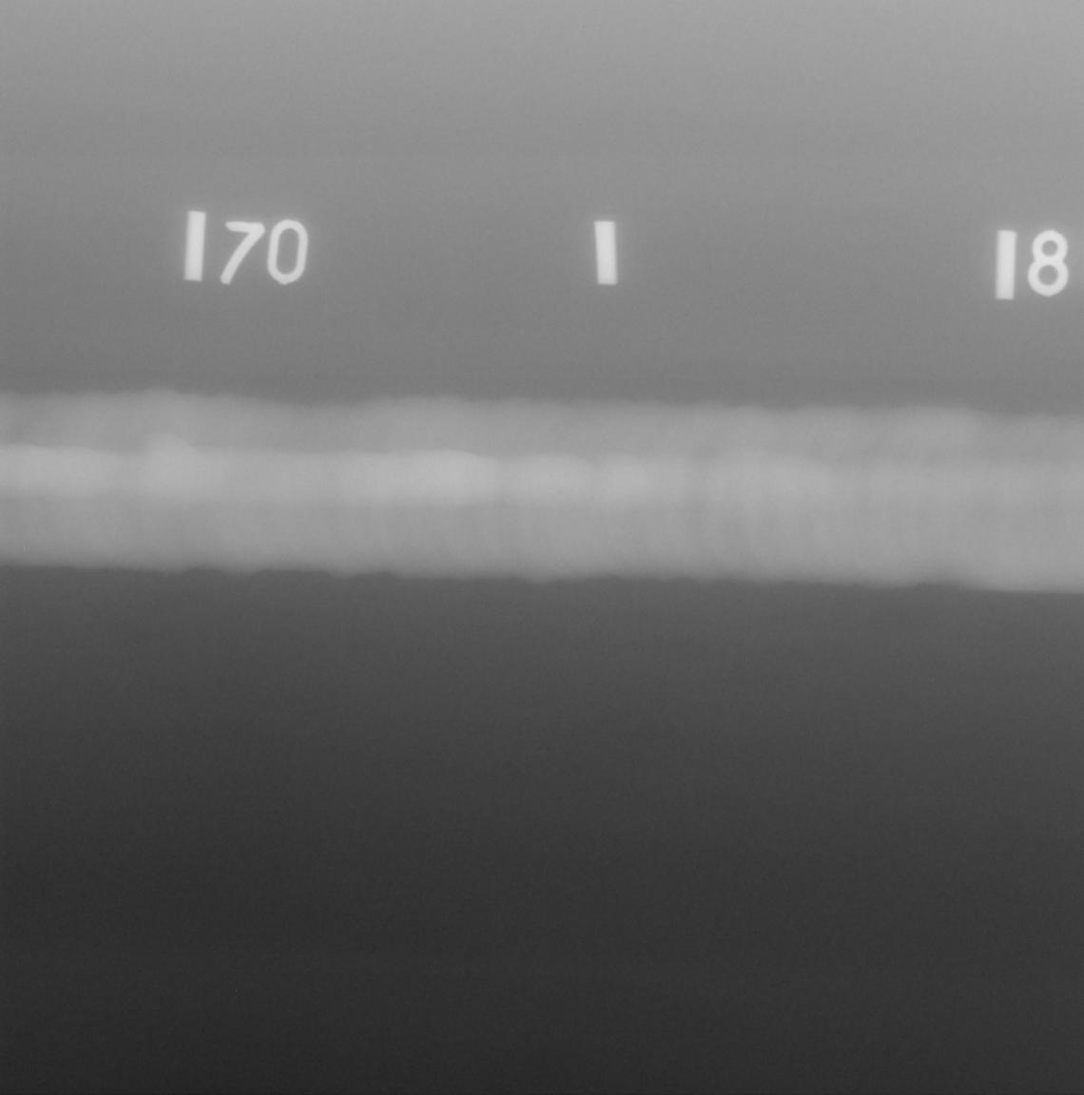Pore/Porosity: (558, 491, 562, 494)
